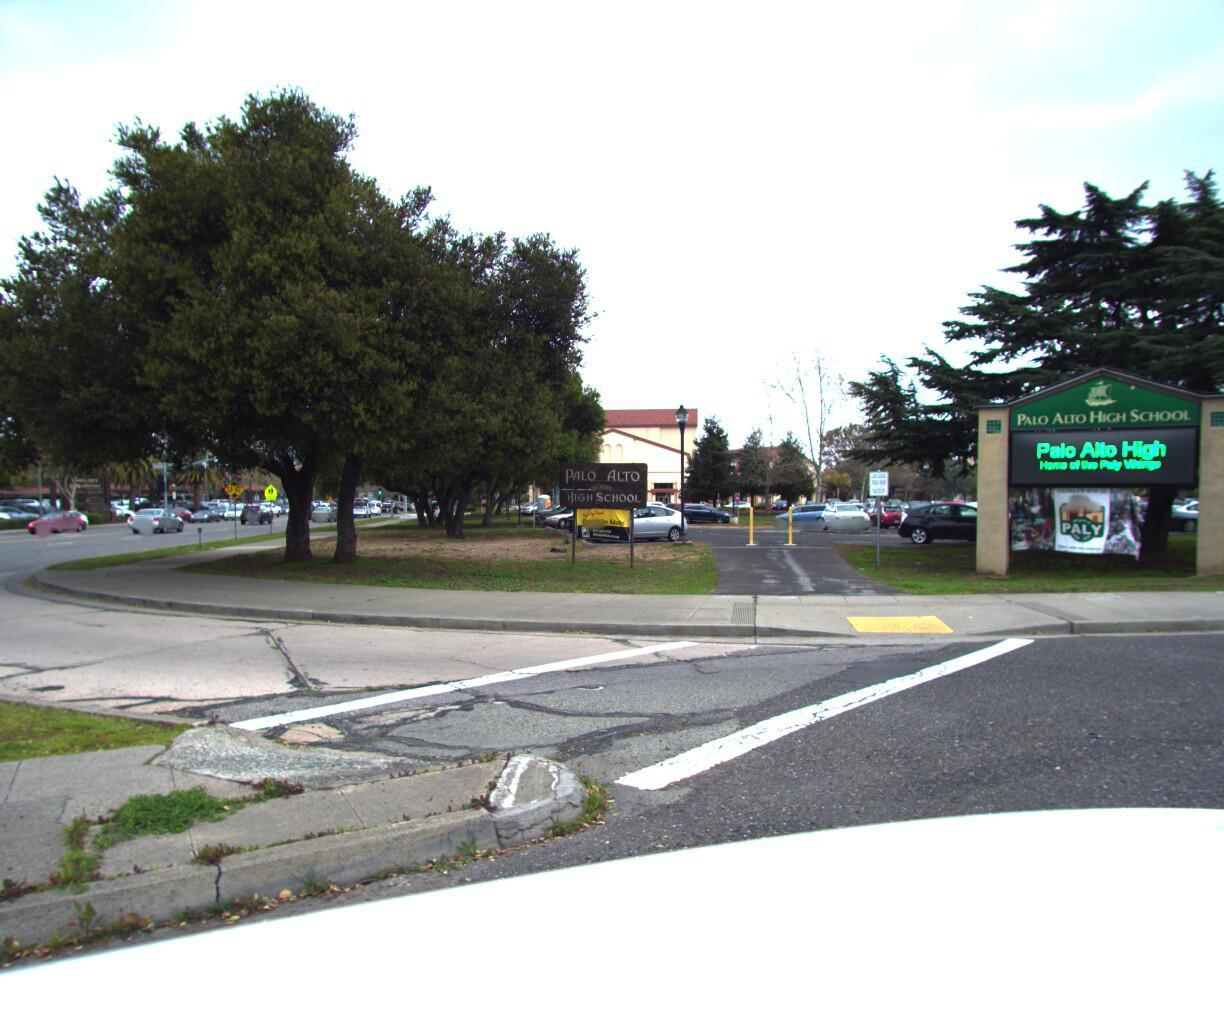car: (24, 513, 91, 538), (128, 513, 189, 538), (40, 513, 102, 531), (240, 503, 278, 524), (0, 507, 21, 529), (313, 508, 341, 524)
